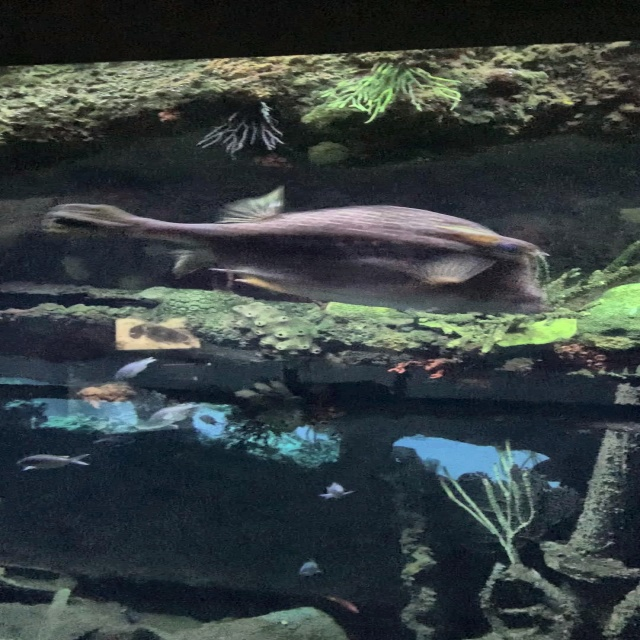fish: (40, 186, 550, 314), (130, 401, 203, 435), (15, 452, 92, 472), (113, 356, 158, 383), (324, 593, 361, 616), (319, 480, 356, 502), (296, 557, 324, 578)
